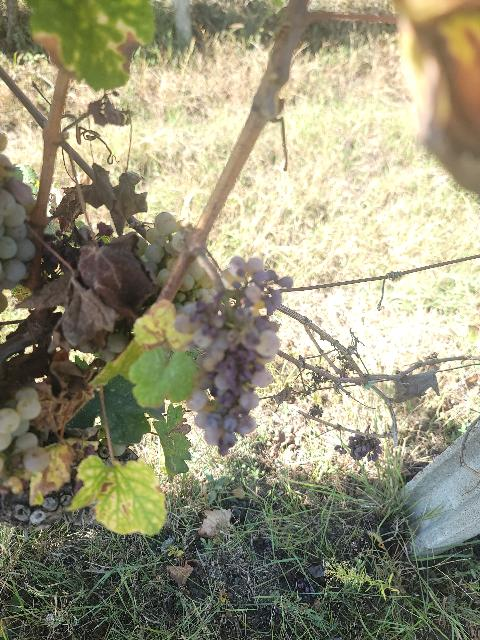grapes: (175, 256, 292, 455)
